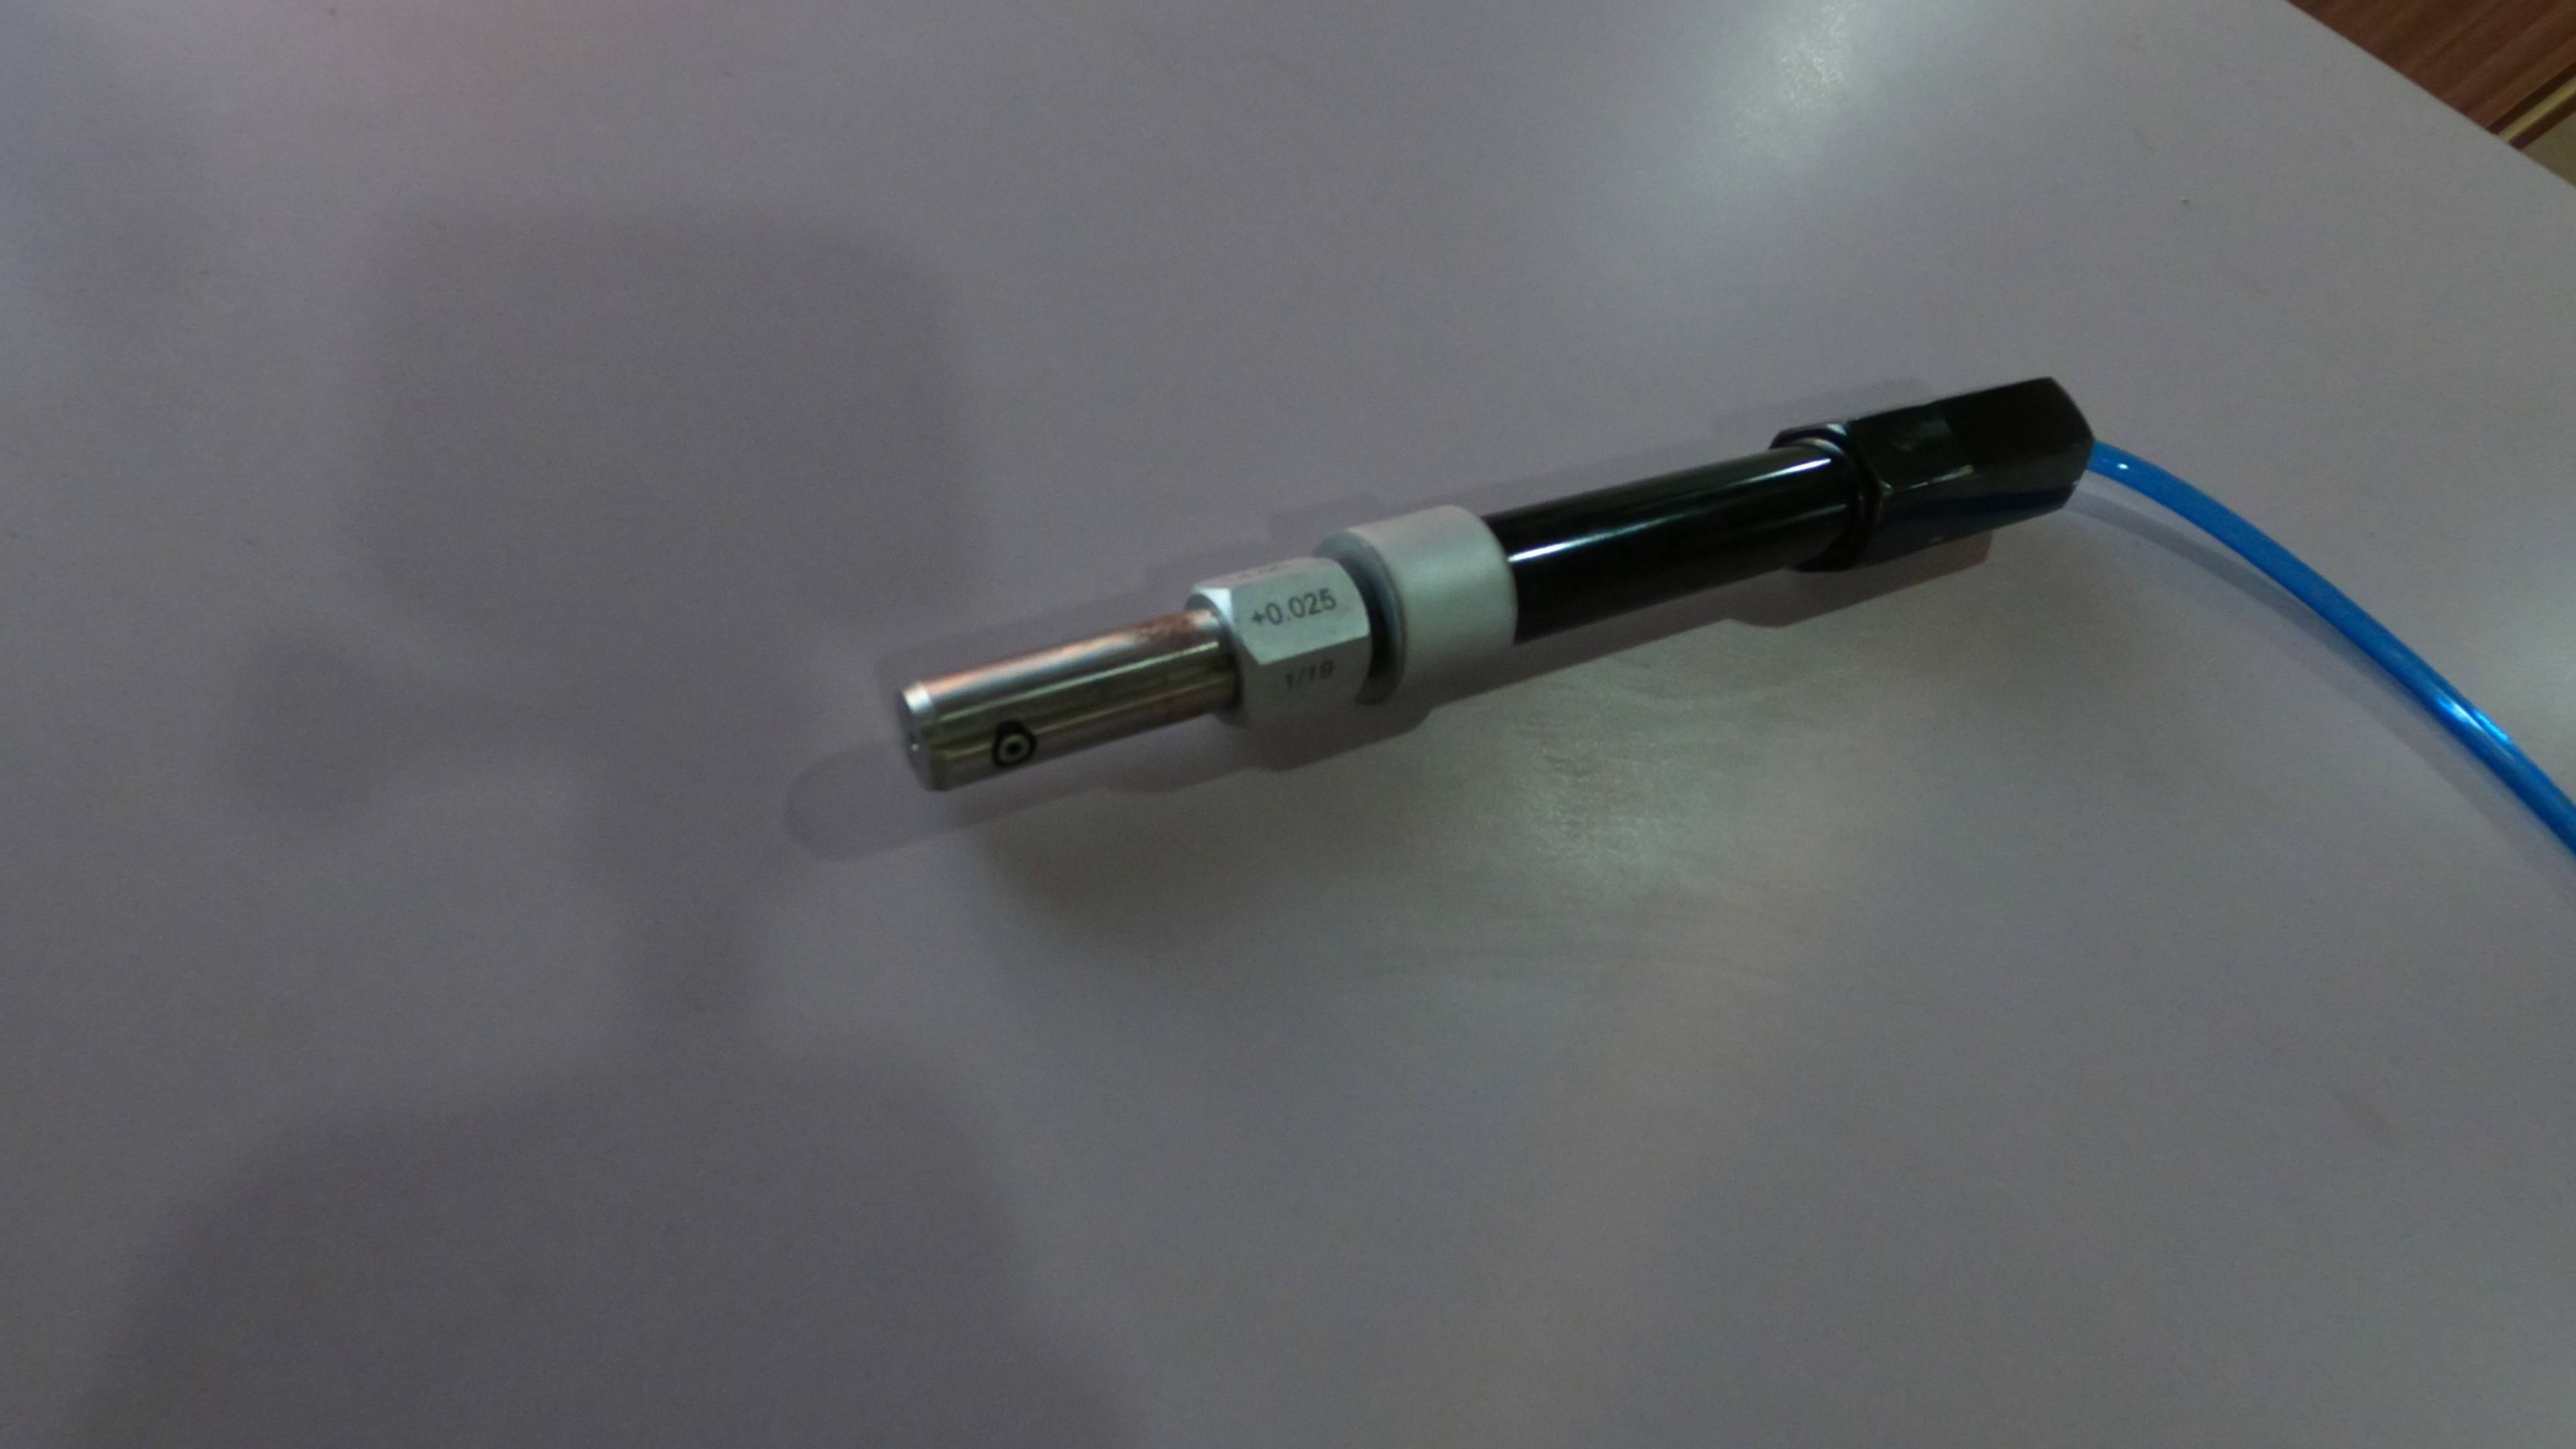air_gauge: (890, 370, 2097, 927)
